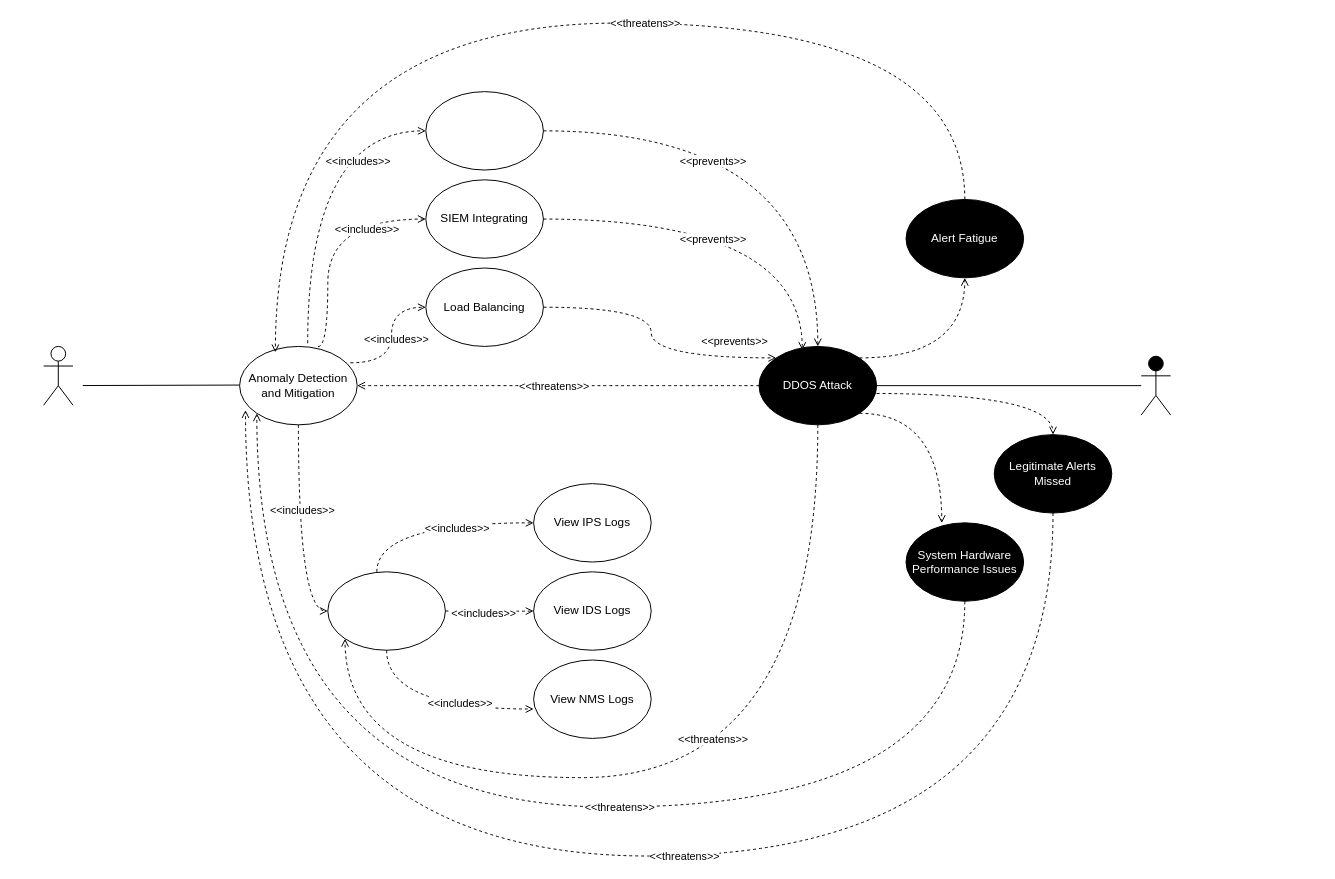
Image size: 1335x879. Some labels were removed from this diagram. The shapes that lost their labels are listed below. From the top down, each one's box as (x1, y1, x2, y2) in pixels, then its label:
(425, 91, 543, 170): Traffic Scrubbing
(43, 345, 73, 405): Security Analyst
(1140, 355, 1171, 415): Disgruntled Patient
(327, 571, 445, 650): Reviewing Logs
